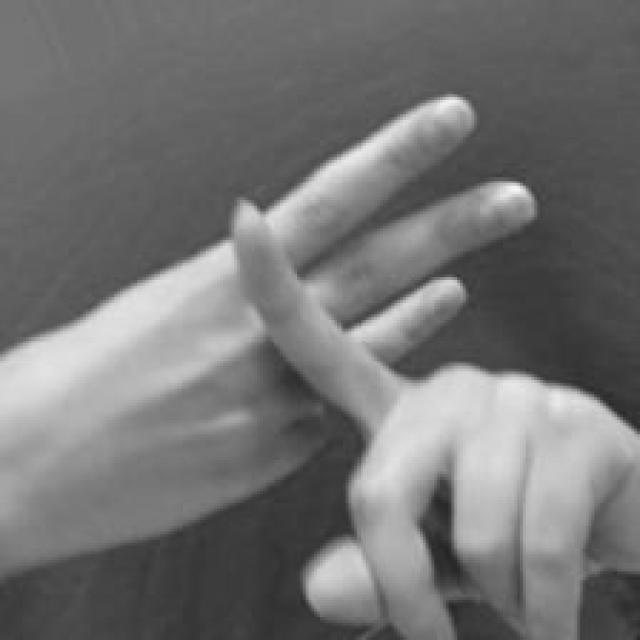E: (5, 88, 640, 640)
